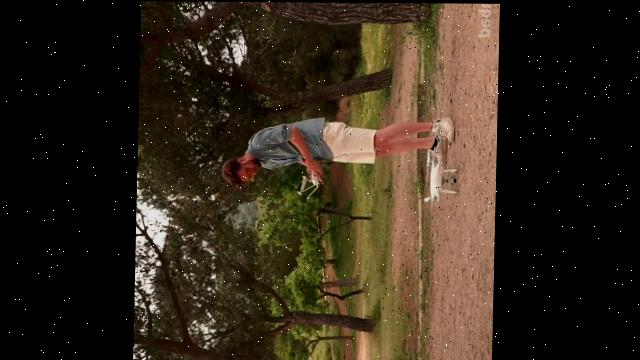drone: (419, 151, 462, 212)
